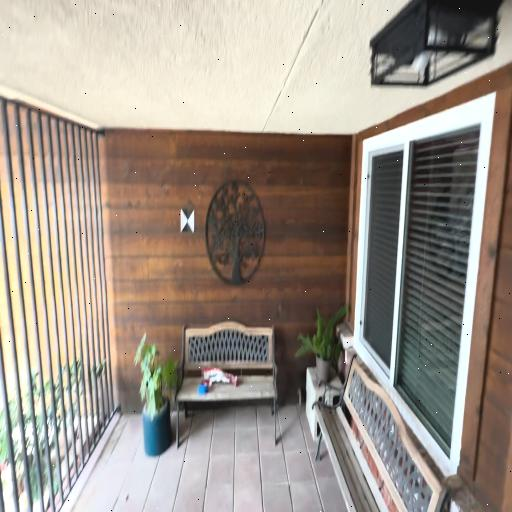target: (180, 209, 194, 231)
